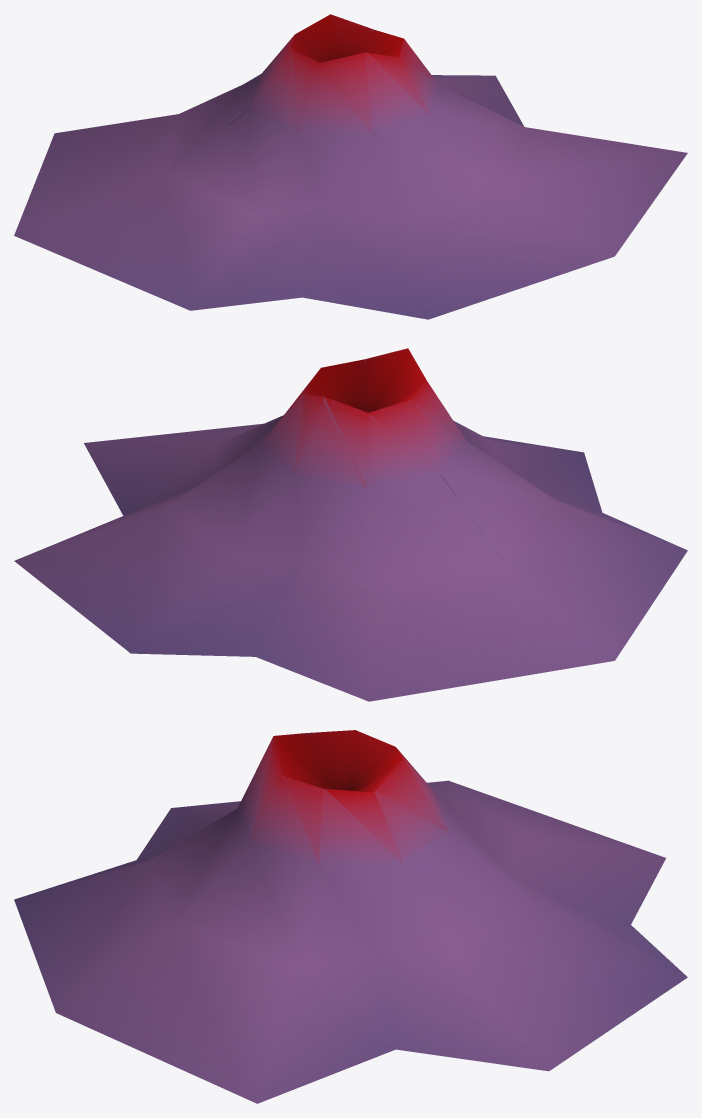
File: Volcano.obj
3 renders of one model, top to bottom at view 1: azimuth 30°, elevation 25°; view 2: azimuth 150°, elevation 25°; view 3: azimuth 270°, elevation 25°, orthographic. The views are drawn at different scales.
Parts seen in each view (by area): view 1: shot_2024-06-01_14-13-43-383.001; view 2: shot_2024-06-01_14-13-43-383.001; view 3: shot_2024-06-01_14-13-43-383.001.
Boxes of the visible parts, <box> form: shot_2024-06-01_14-13-43-383.001: <box>14,14,687,319</box>; shot_2024-06-01_14-13-43-383.001: <box>14,348,687,701</box>; shot_2024-06-01_14-13-43-383.001: <box>14,730,687,1103</box>.
Bounding box in the file's own units: 450 × 128 × 395.
1 material, 1 textured.
